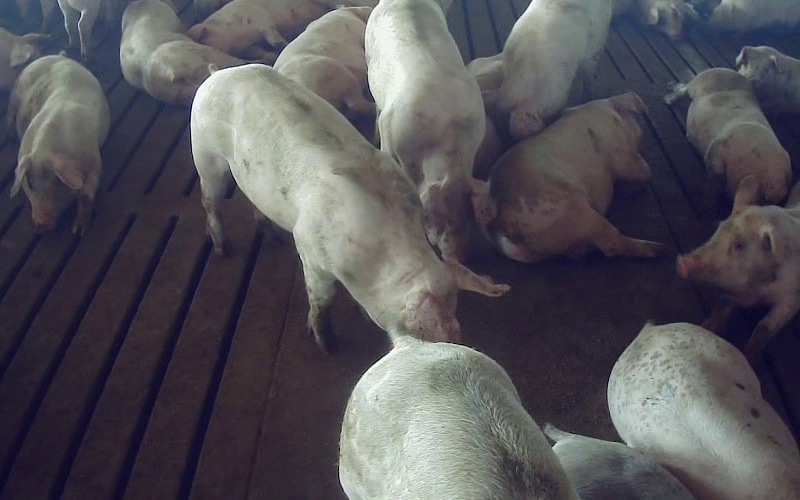pig: (191, 65, 504, 347), (339, 337, 575, 499), (608, 323, 799, 499), (365, 0, 490, 261), (488, 93, 661, 262), (677, 175, 799, 351), (665, 68, 791, 209), (10, 55, 109, 233), (120, 0, 245, 105), (274, 7, 374, 116), (187, 0, 343, 63)
